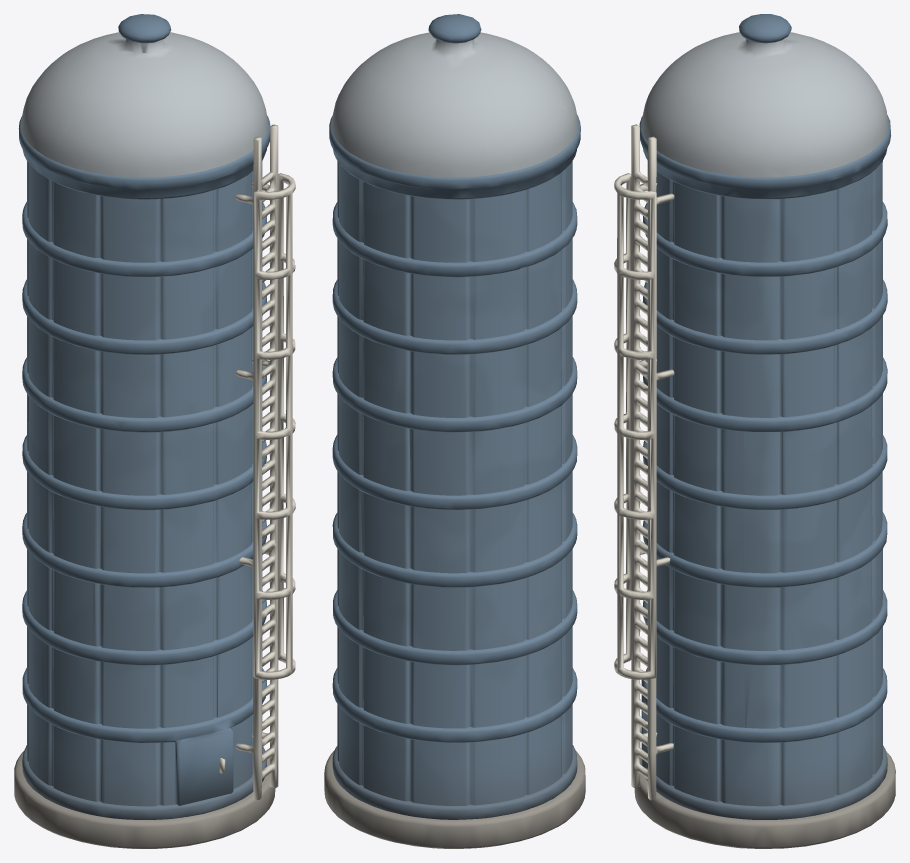
3 renders of one model, left to right at view 1: azimuth 30°, elevation 25°; view 2: azimuth 150°, elevation 25°; view 3: azimuth 270°, elevation 25°, orthographic.
Visible parts, largest first — view 1: silo_steel, silo_bands, silo_cap, silo_ladder, silo_concrete; view 2: silo_steel, silo_bands, silo_cap, silo_concrete; view 3: silo_steel, silo_bands, silo_cap, silo_ladder, silo_concrete.
Part boxes in pixels (<box>): silo_steel: <box>27,161,262,806</box>; silo_bands: <box>18,14,270,819</box>; silo_cap: <box>21,32,267,177</box>; silo_ladder: <box>219,124,295,799</box>; silo_concrete: <box>14,751,275,848</box>; silo_steel: <box>337,161,572,805</box>; silo_bands: <box>329,14,580,819</box>; silo_cap: <box>331,32,578,177</box>; silo_concrete: <box>324,750,585,848</box>; silo_steel: <box>647,161,882,806</box>; silo_bands: <box>639,14,890,819</box>; silo_cap: <box>642,32,888,177</box>; silo_ladder: <box>614,124,674,800</box>; silo_concrete: <box>634,751,895,848</box>.
Size of the model in its own units: 4.44 by 14.56 by 4.79.
Materials: 1 (1 with a texture image).
